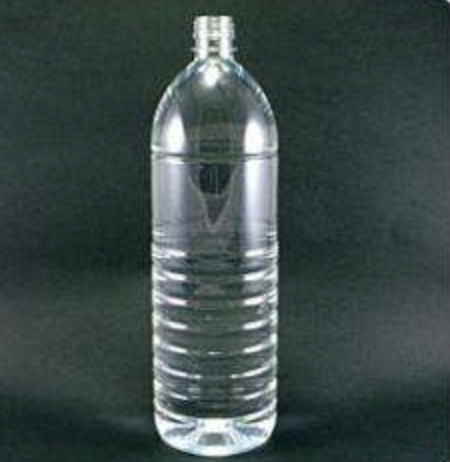其他: (142, 16, 283, 454)
